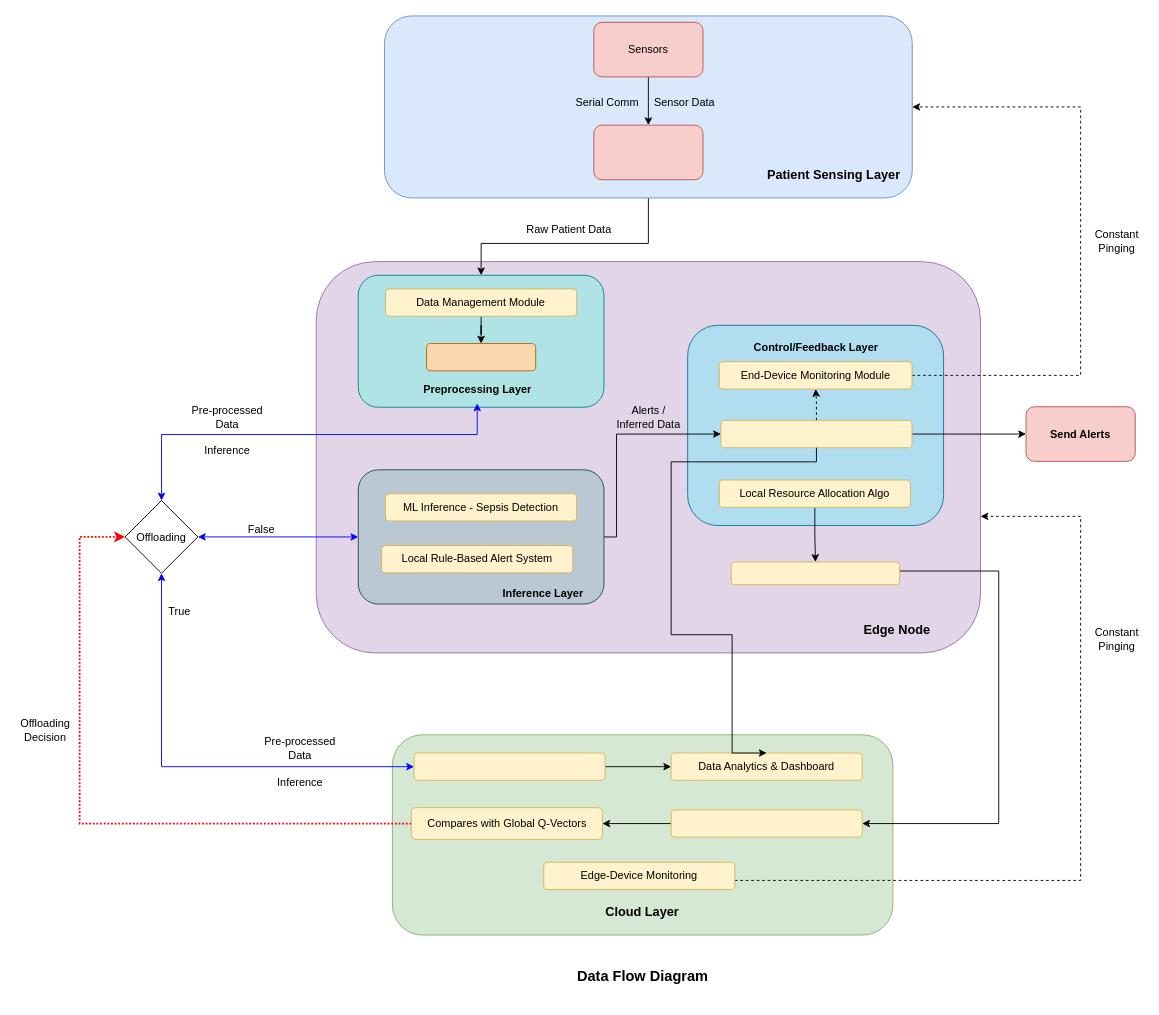
This 1159x1015 diagram has some shape labels left out. The shapes that lost their labels are listed below. From the top down, each one's box as (x1, y1, x2, y2) in pixels, then its label:
(593, 124, 703, 180): Wearable
(426, 343, 536, 371): Data Buffer
(720, 420, 912, 448): Communication Manager
(730, 561, 900, 585): Calculated Q-Vectors
(413, 752, 605, 780): ML Inference - Offloaded Task
(670, 809, 862, 837): Global Resource Allocation Algo
